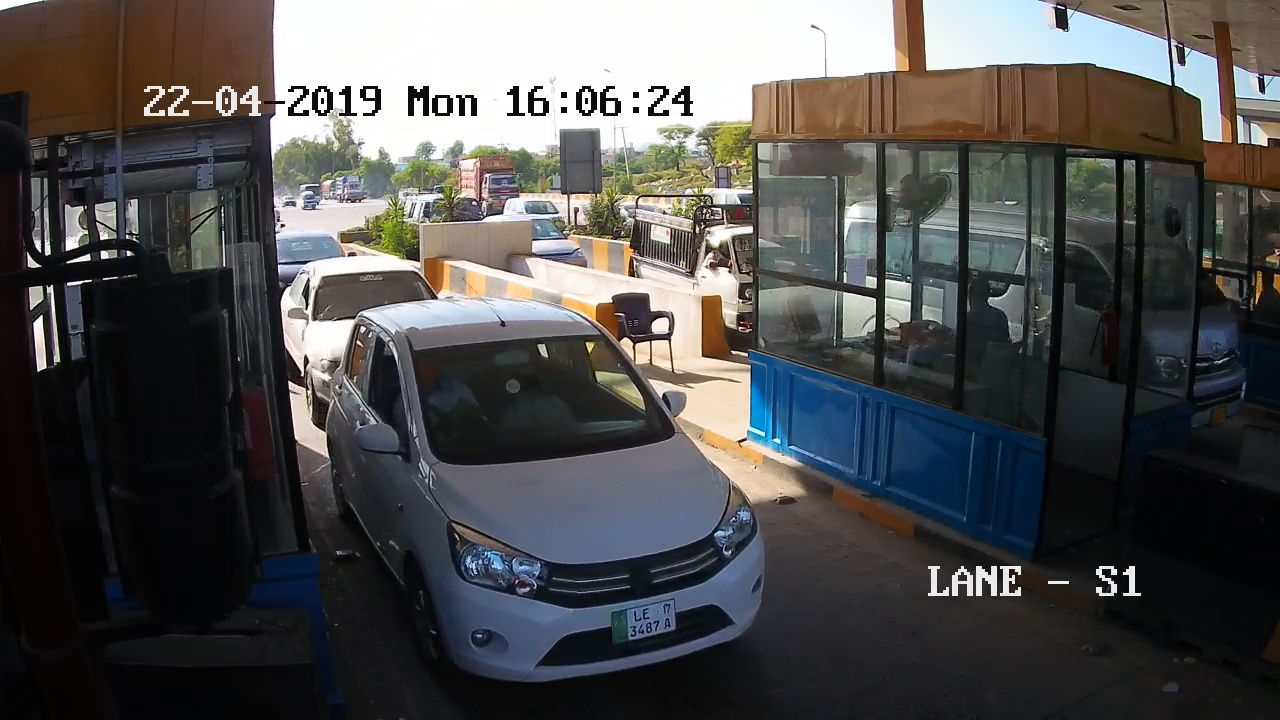Number Plate (Car): (610, 605, 677, 639)
